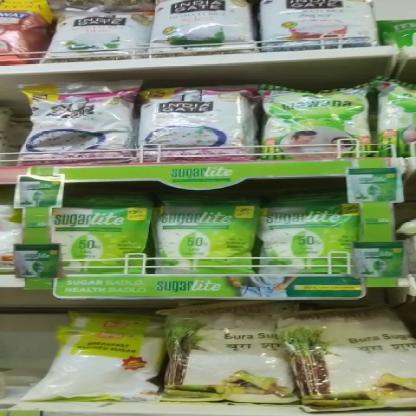SUGARLITE POUCH 500G: (156, 191, 261, 272), (50, 196, 146, 276), (259, 191, 353, 270)
